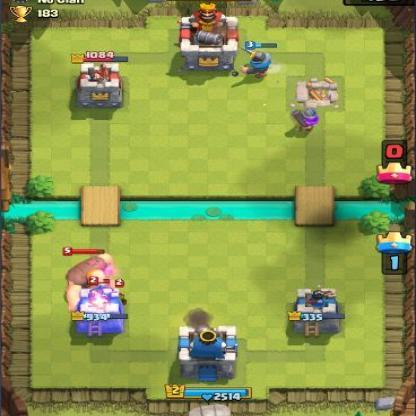ally_knight: (238, 41, 278, 81)
ally_musketeer: (287, 104, 321, 132)
enemy_giant: (61, 245, 116, 316)
enemy_goblin: (108, 277, 134, 308), (87, 274, 113, 304)
